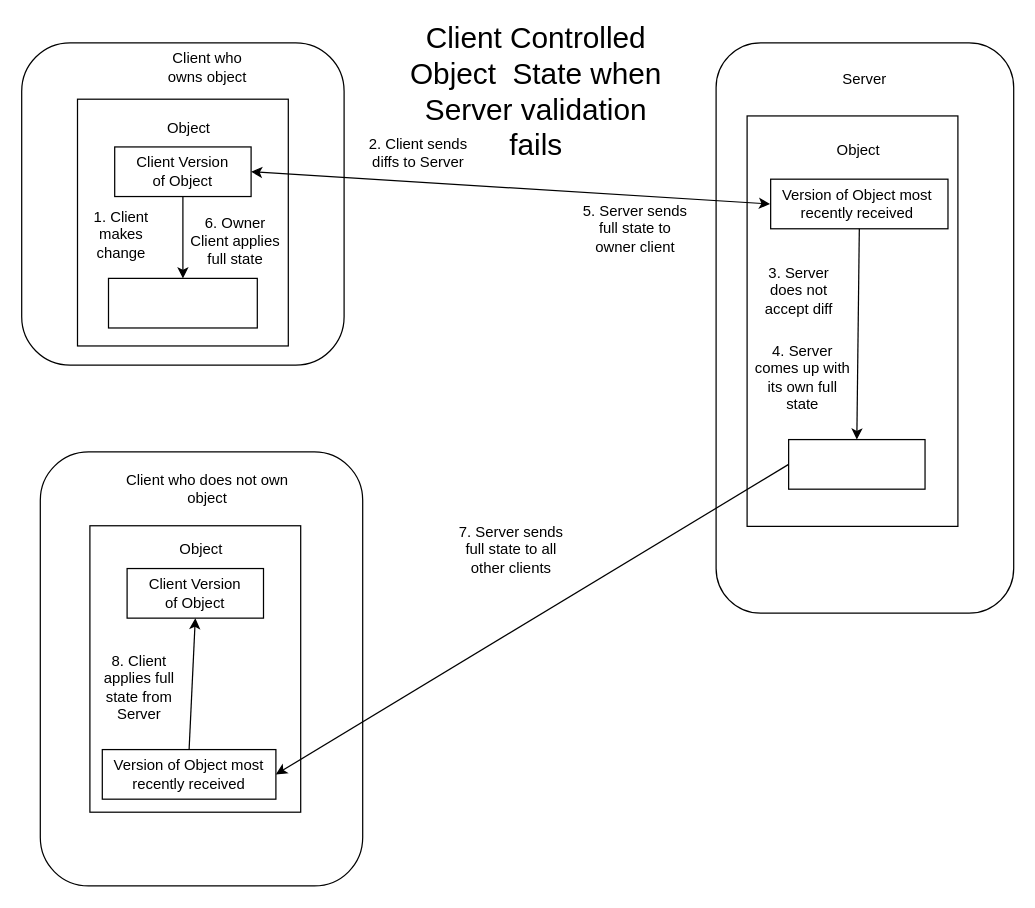
The diagram is 1035 pixels wide and 908 high, and some of its shapes have lost their labels. The shapes that lost their labels are listed below. From the top down, each one's centre as x and y in pixels, then its label:
point 182,302: Version of Object most recently sent
point 856,463: Server Version of Object
